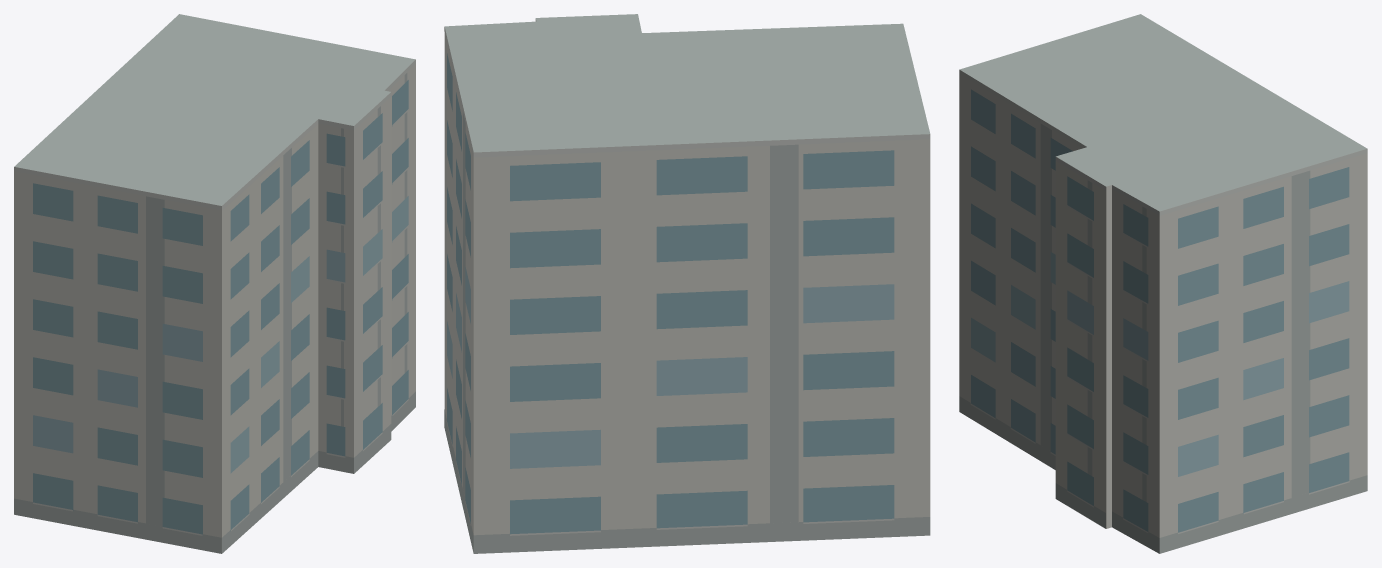
The model's file is survey-upis-32720012.glb.
The picture shows the model from 3 angles, left to right: view 1: azimuth 30°, elevation 25°; view 2: azimuth 150°, elevation 25°; view 3: azimuth 270°, elevation 25°; orthographic projection. The views are drawn at different scales.
Visible parts, largest first — view 1: survey-upis-32720012.tmp; view 2: survey-upis-32720012.tmp; view 3: survey-upis-32720012.tmp.
Part boxes in pixels (x1=…): survey-upis-32720012.tmp: x1=14, y1=14, x2=415, y2=553; survey-upis-32720012.tmp: x1=444, y1=14, x2=930, y2=553; survey-upis-32720012.tmp: x1=959, y1=14, x2=1367, y2=553.
Bounding box in the file's own units: 22.9 × 18.5 × 20.
